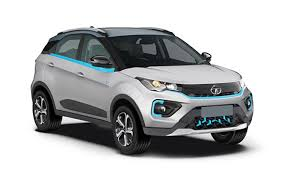Tata Nexon: (29, 24, 256, 157)
